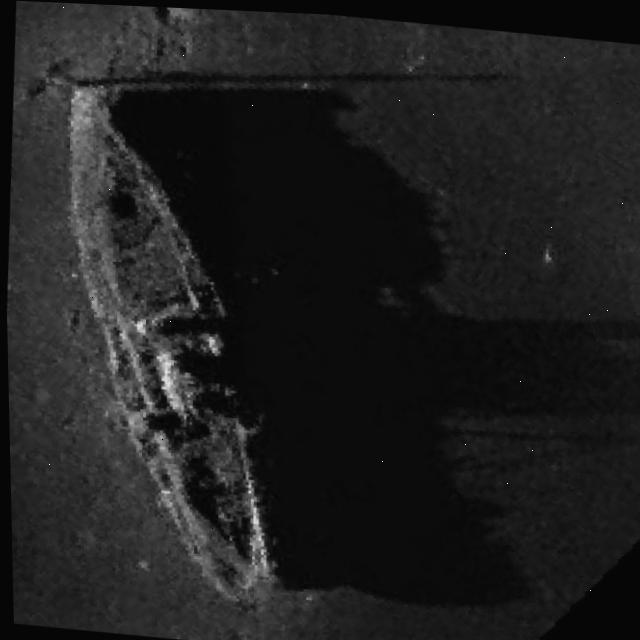shipwreck: (30, 96, 300, 623)
